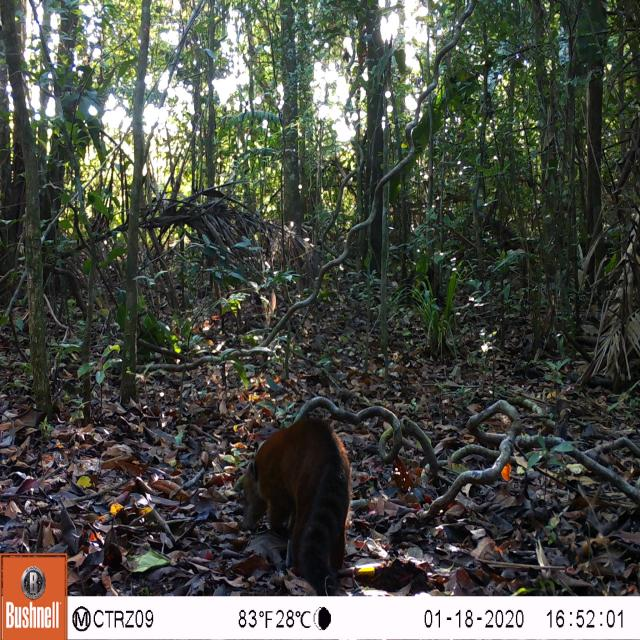South American Coati: (228, 401, 356, 584)
